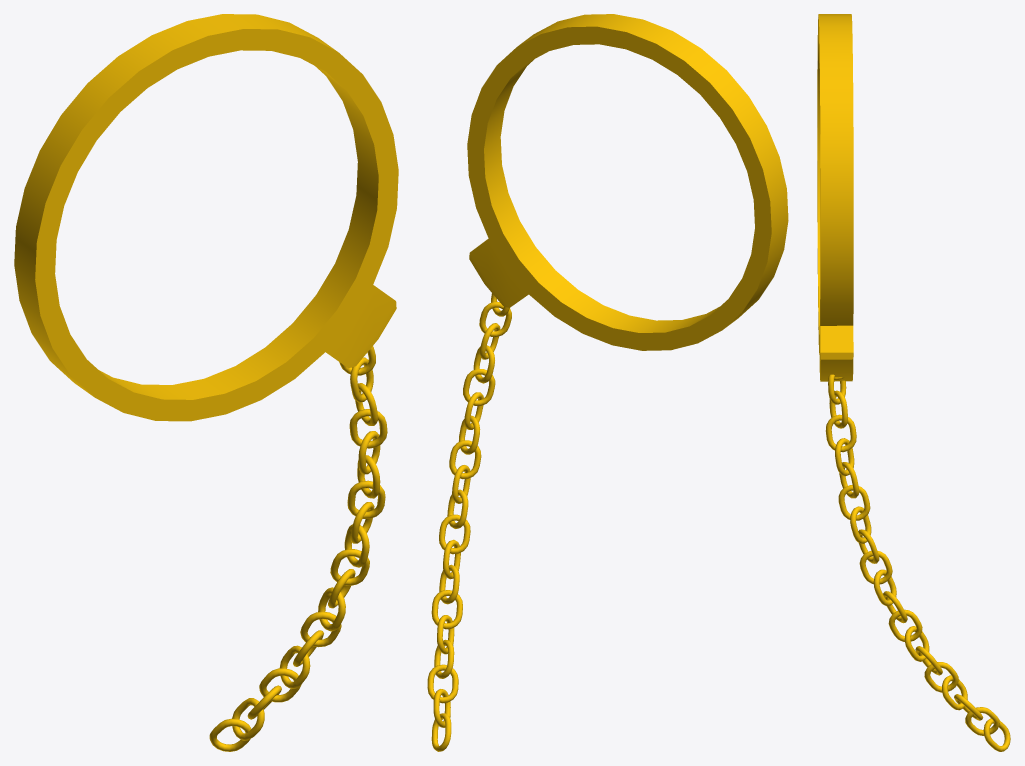
The model's file is monocle.glb.
The picture shows the model from 3 angles, left to right: view 1: azimuth 30°, elevation 25°; view 2: azimuth 150°, elevation 25°; view 3: azimuth 270°, elevation 25°; orthographic projection. The views are drawn at different scales.
Parts seen in each view (by area): view 1: monocle; view 2: monocle; view 3: monocle.
Part boxes in pixels (bbox=[...]): monocle: bbox=[14, 14, 398, 751]; monocle: bbox=[427, 14, 788, 751]; monocle: bbox=[817, 14, 1010, 751].
Size of the model in its own units: 0.0089 by 0.0189 by 0.00495.
